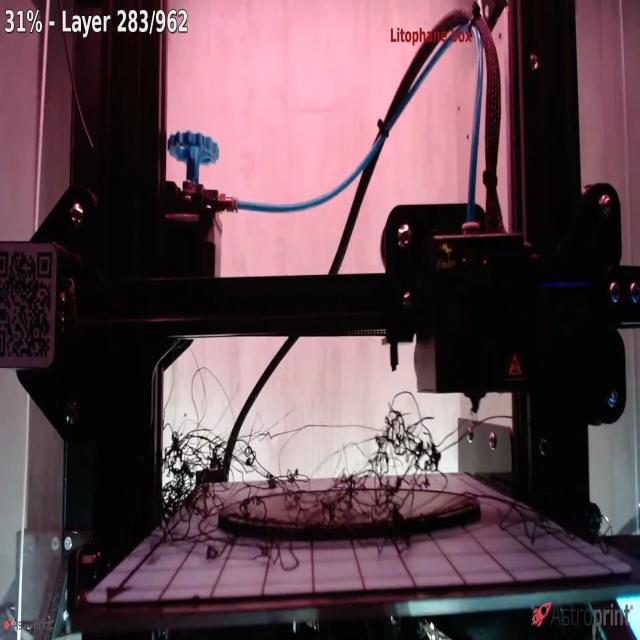spaghetti: (143, 352, 459, 578)
